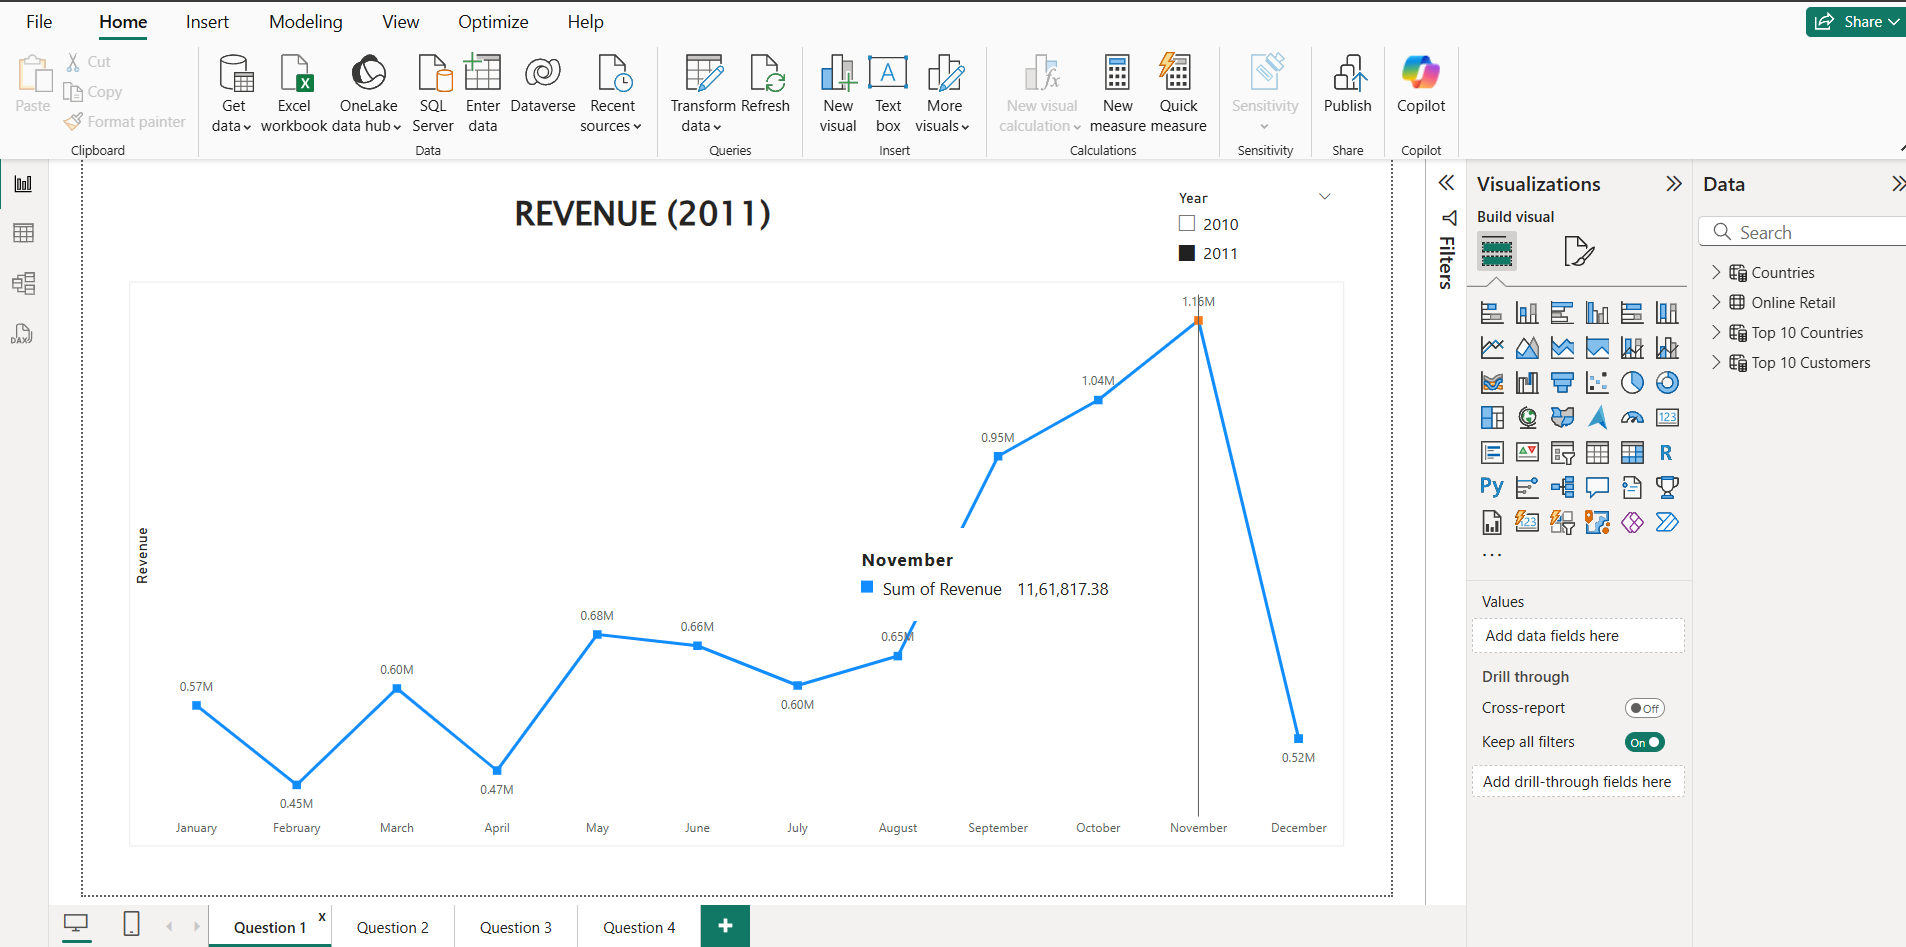

This screenshot's page, from the dashboard's own definition file:
{"tool":"powerbi","page":{"name":"Question 1","canvas":[1280,720],"ordinal":0},"visuals":[{"type":"lineChart","fields":{"Y":["Sum(Online Retail.Revenue)"],"Category":["Online Retail.InvoiceDate.Variation.Date Hierarchy.Month"]},"box":[45.2,119.8,1188.6,552.7],"z":0},{"type":"slicer","fields":{"Values":["Online Retail.InvoiceDate.Variation.Date Hierarchy.Year"]},"box":[1059,24.5,174.9,95.4],"z":1000},{"type":"textbox","box":[417,24.5,443.9,74.6],"z":2000}]}

Visuals, with their boxes on the page's 1280x720 design canvas (x1, y1, x2, y2). These are canvas units, not pixel positions in the 1906x947 screenshot, which may show the page scaled, cropped or inside an application window:
lineChart - Sum(Online Retail.Revenue) x Online Retail.InvoiceDate.Variation.Date Hierarchy.Month: (45,120,1234,672)
slicer - Online Retail.InvoiceDate.Variation.Date Hierarchy.Year: (1059,24,1234,120)
textbox: (417,24,861,99)
